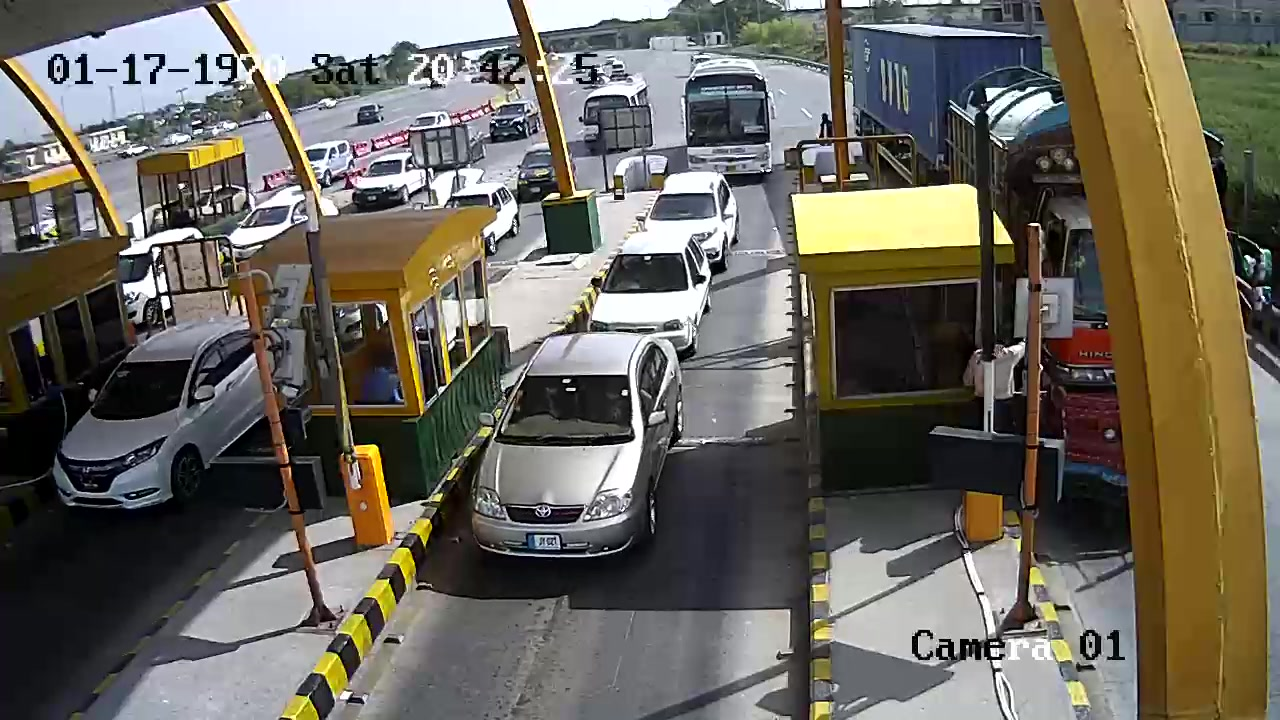F1: (465, 332, 694, 573), (579, 227, 713, 357)
